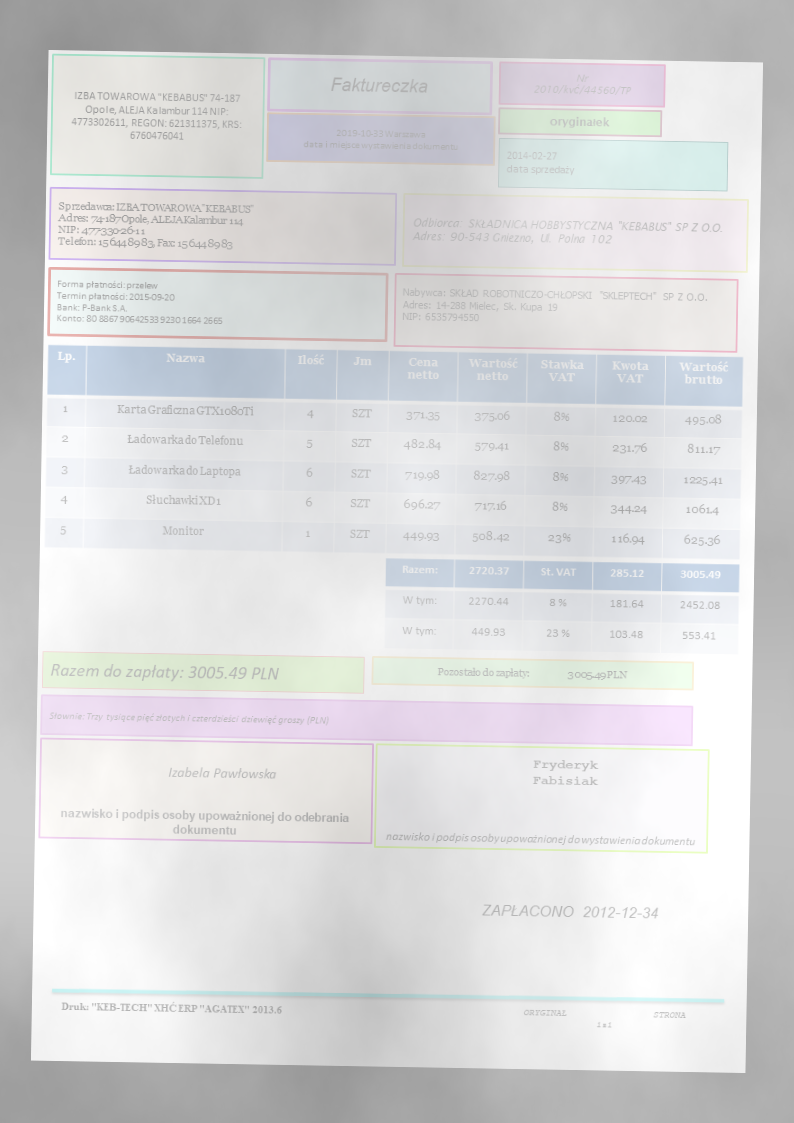Table: (43, 343, 744, 562), (382, 555, 742, 655)
TextBox: (400, 285, 710, 328), (55, 197, 256, 253), (409, 215, 725, 248), (69, 87, 244, 143), (58, 806, 350, 839), (54, 277, 224, 326), (383, 827, 697, 849), (48, 659, 282, 682), (48, 710, 331, 727), (301, 126, 461, 154), (58, 999, 285, 1018), (522, 1006, 687, 1031), (479, 901, 662, 923), (435, 664, 629, 682), (531, 70, 634, 100), (530, 757, 602, 788), (505, 149, 576, 179), (330, 75, 429, 95), (166, 765, 278, 781), (547, 114, 612, 130)
